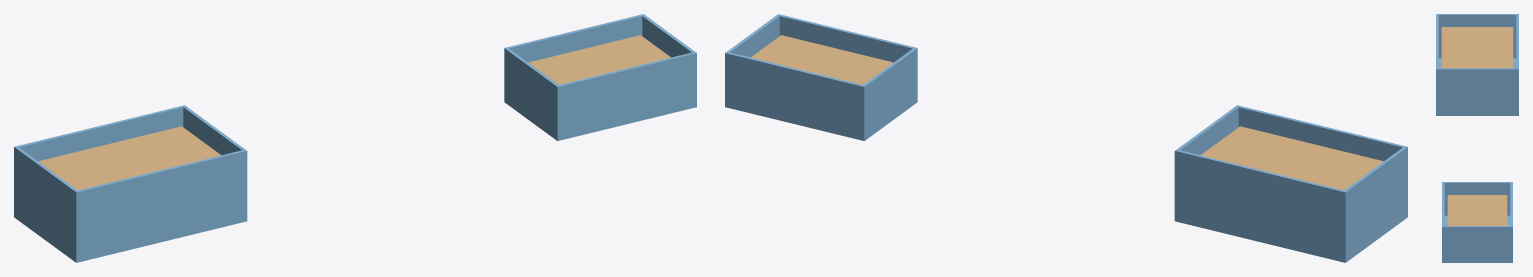
The model's file is synthetic.glb.
The picture shows the model from 3 angles, left to right: view 1: azimuth 30°, elevation 25°; view 2: azimuth 150°, elevation 25°; view 3: azimuth 270°, elevation 25°; orthographic projection. The views are drawn at different scales.
Visible parts, largest first — view 1: equipment-tray/pair/left/front, equipment-tray/pair/right/front, equipment-tray/pair/left/payload, equipment-tray/pair/left/left-wall, equipment-tray/pair/right/payload, equipment-tray/pair/left/back, equipment-tray/pair/right/back, equipment-tray/pair/right/left-wall, equipment-tray/pair/left/base, equipment-tray/pair/left/right-wall, equipment-tray/pair/right/base, equipment-tray/pair/right/right-wall; view 2: equipment-tray/pair/left/back, equipment-tray/pair/right/back, equipment-tray/pair/left/payload, equipment-tray/pair/left/left-wall, equipment-tray/pair/right/payload, equipment-tray/pair/left/front, equipment-tray/pair/right/front, equipment-tray/pair/right/left-wall, equipment-tray/pair/left/base, equipment-tray/pair/left/right-wall, equipment-tray/pair/right/base, equipment-tray/pair/right/right-wall; view 3: equipment-tray/pair/left/right-wall, equipment-tray/pair/left/payload, equipment-tray/pair/right/right-wall, equipment-tray/pair/right/payload, equipment-tray/pair/left/left-wall, equipment-tray/pair/right/left-wall, equipment-tray/pair/left/base, equipment-tray/pair/right/base, equipment-tray/pair/left/back, equipment-tray/pair/left/front, equipment-tray/pair/right/back, equipment-tray/pair/right/front.
Part boxes in pixels (left/top/right/bottom): equipment-tray/pair/left/front: left=74, top=149, right=247, bottom=257; equipment-tray/pair/right/front: left=555, top=52, right=696, bottom=136; equipment-tray/pair/left/payload: left=38, top=126, right=220, bottom=190; equipment-tray/pair/left/left-wall: left=15, top=147, right=77, bottom=256; equipment-tray/pair/right/payload: left=528, top=35, right=670, bottom=84; equipment-tray/pair/left/back: left=14, top=105, right=185, bottom=213; equipment-tray/pair/right/back: left=504, top=14, right=644, bottom=97; equipment-tray/pair/right/left-wall: left=506, top=48, right=558, bottom=134; equipment-tray/pair/left/base: left=14, top=212, right=247, bottom=262; equipment-tray/pair/left/right-wall: left=183, top=106, right=244, bottom=155; equipment-tray/pair/right/base: left=504, top=97, right=696, bottom=140; equipment-tray/pair/right/right-wall: left=642, top=15, right=694, bottom=57; equipment-tray/pair/left/back: left=1174, top=149, right=1347, bottom=257; equipment-tray/pair/right/back: left=725, top=52, right=866, bottom=136; equipment-tray/pair/left/payload: left=1201, top=126, right=1383, bottom=190; equipment-tray/pair/left/left-wall: left=1344, top=147, right=1406, bottom=256; equipment-tray/pair/right/payload: left=751, top=35, right=893, bottom=84; equipment-tray/pair/left/front: left=1236, top=105, right=1407, bottom=213; equipment-tray/pair/right/front: left=777, top=14, right=917, bottom=97; equipment-tray/pair/right/left-wall: left=863, top=48, right=915, bottom=134; equipment-tray/pair/left/base: left=1174, top=212, right=1407, bottom=262; equipment-tray/pair/left/right-wall: left=1177, top=106, right=1238, bottom=155; equipment-tray/pair/right/base: left=725, top=97, right=917, bottom=140; equipment-tray/pair/right/right-wall: left=727, top=15, right=779, bottom=57; equipment-tray/pair/left/right-wall: left=1438, top=68, right=1516, bottom=112; equipment-tray/pair/left/payload: left=1441, top=27, right=1513, bottom=68; equipment-tray/pair/right/right-wall: left=1444, top=226, right=1510, bottom=259; equipment-tray/pair/right/payload: left=1447, top=195, right=1507, bottom=225; equipment-tray/pair/left/left-wall: left=1438, top=14, right=1516, bottom=58; equipment-tray/pair/right/left-wall: left=1444, top=182, right=1510, bottom=215; equipment-tray/pair/left/base: left=1436, top=58, right=1518, bottom=115; equipment-tray/pair/right/base: left=1442, top=215, right=1512, bottom=262; equipment-tray/pair/left/back: left=1516, top=14, right=1518, bottom=112; equipment-tray/pair/left/front: left=1436, top=14, right=1438, bottom=112; equipment-tray/pair/right/back: left=1510, top=182, right=1512, bottom=259; equipment-tray/pair/right/front: left=1442, top=182, right=1444, bottom=259.
Size of the model in its own units: 0.798 by 0.086 by 0.138.
